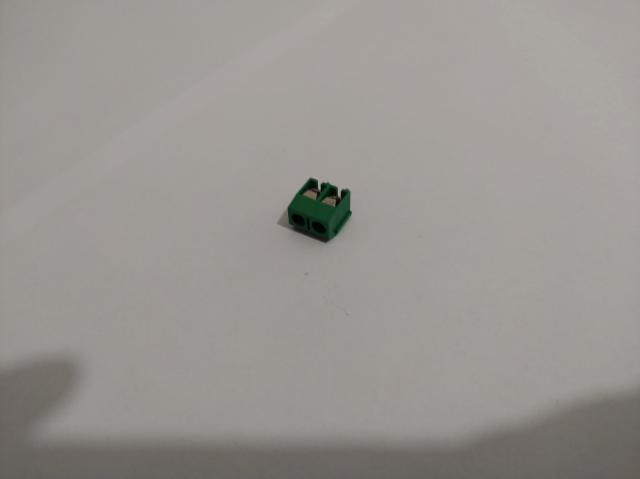terminal_block: (288, 177, 352, 243)
